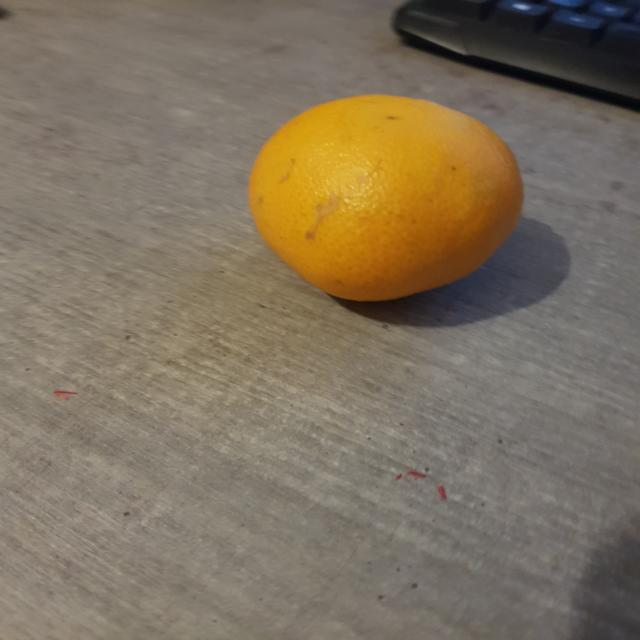Orange: (247, 94, 525, 303)
